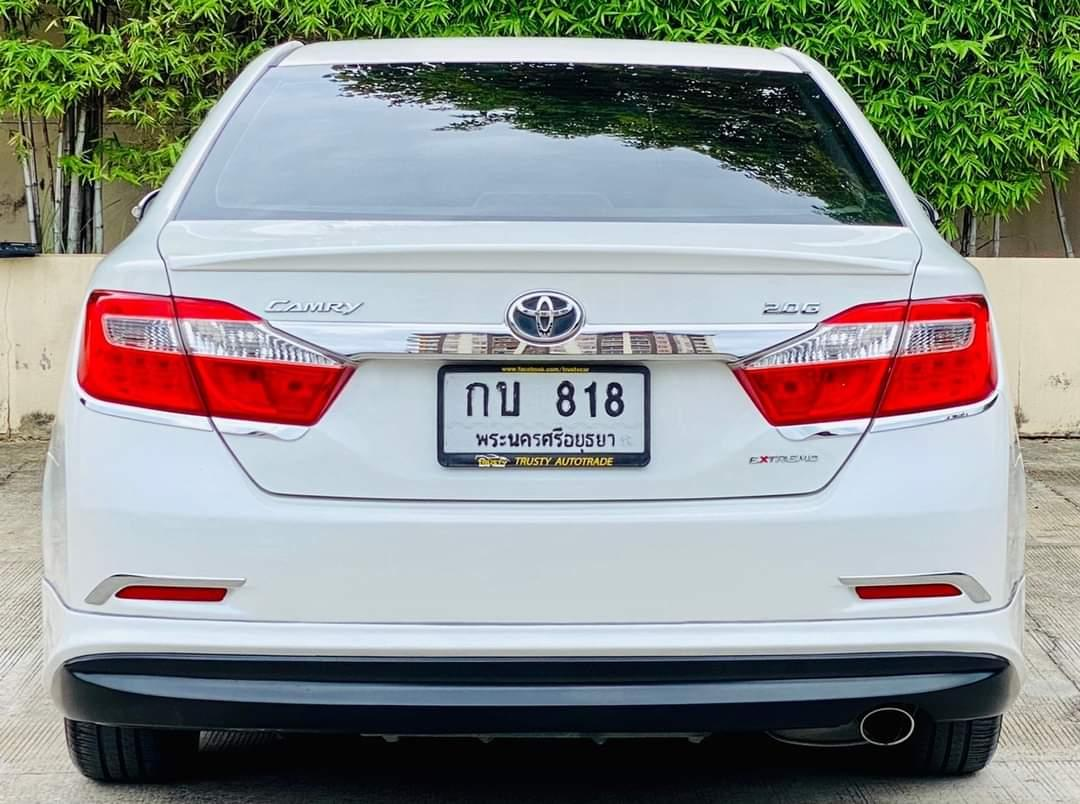license-plate: (436, 360, 651, 469)
